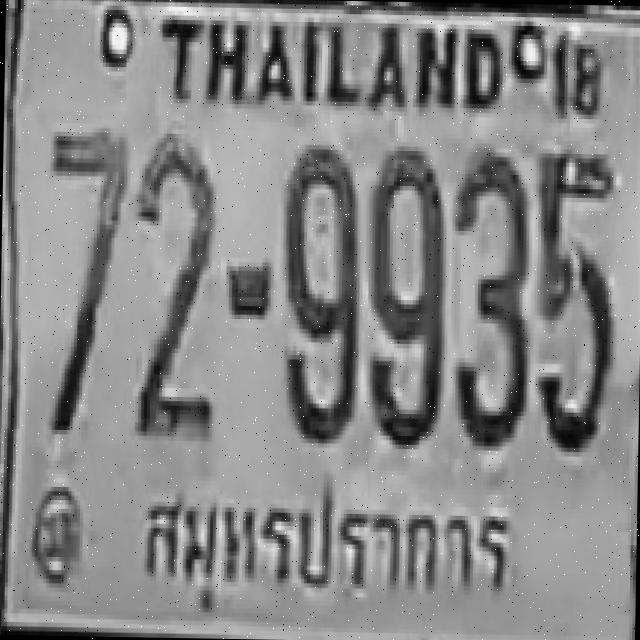0: (281, 140, 360, 439)
2: (133, 143, 215, 434), (134, 135, 215, 412)
3: (448, 147, 530, 446)
5: (533, 146, 615, 450)
7: (46, 125, 128, 432)
9: (281, 140, 360, 439), (366, 144, 444, 442)
SamutPrakan: (137, 470, 514, 601)
